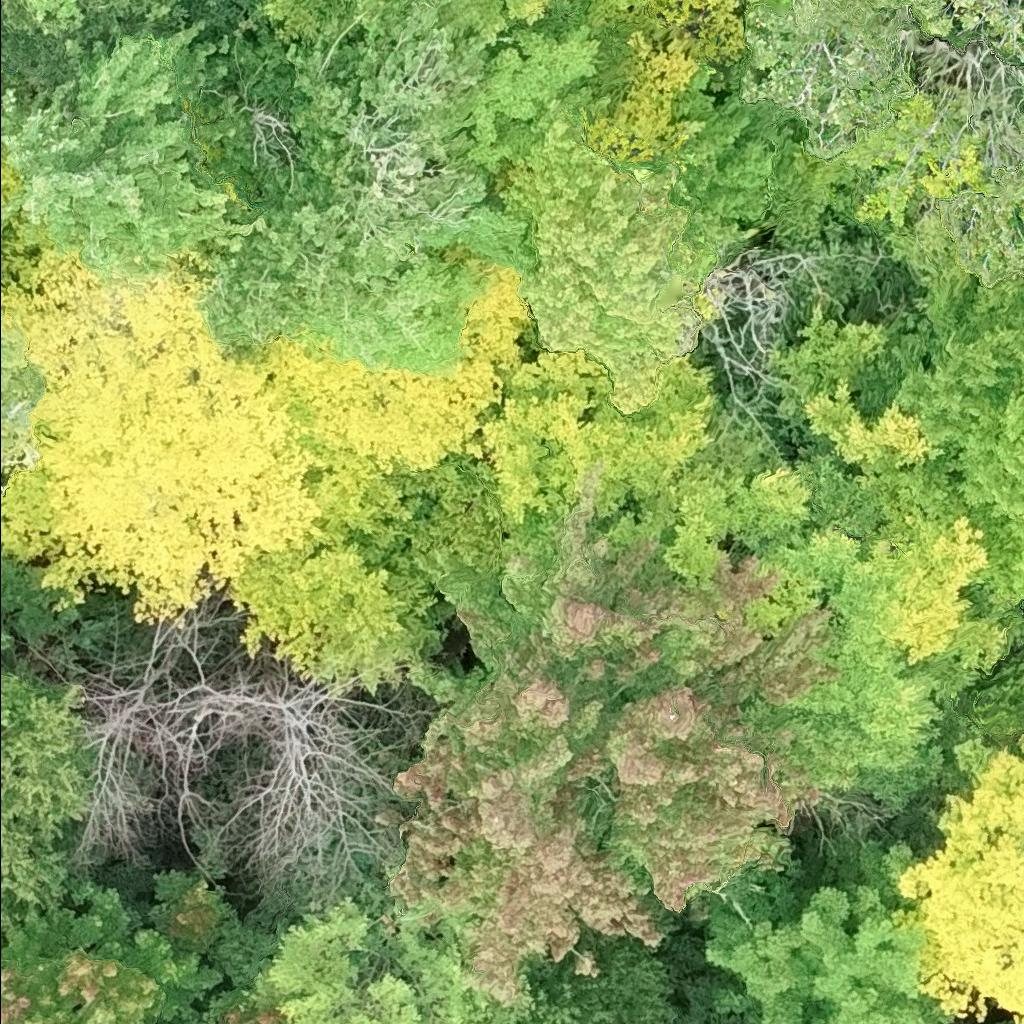crown: (386, 459, 842, 1002), (0, 244, 328, 628), (189, 0, 487, 358), (228, 435, 506, 695), (238, 240, 536, 477), (209, 635, 446, 914), (0, 14, 254, 274), (482, 346, 779, 566), (68, 575, 246, 894), (676, 830, 956, 1023), (744, 606, 984, 820), (245, 886, 553, 1023), (892, 730, 1023, 1023), (895, 315, 1023, 599), (0, 881, 226, 1023), (823, 484, 989, 660), (745, 0, 1023, 103), (578, 0, 751, 165), (0, 653, 89, 946), (457, 20, 611, 179), (635, 456, 815, 584), (768, 302, 926, 419), (673, 93, 778, 247), (801, 374, 954, 477), (791, 450, 963, 539), (748, 520, 861, 634), (531, 0, 669, 91), (937, 159, 1023, 284), (251, 0, 419, 45), (445, 0, 548, 56), (20, 0, 87, 36), (740, 0, 790, 20)
